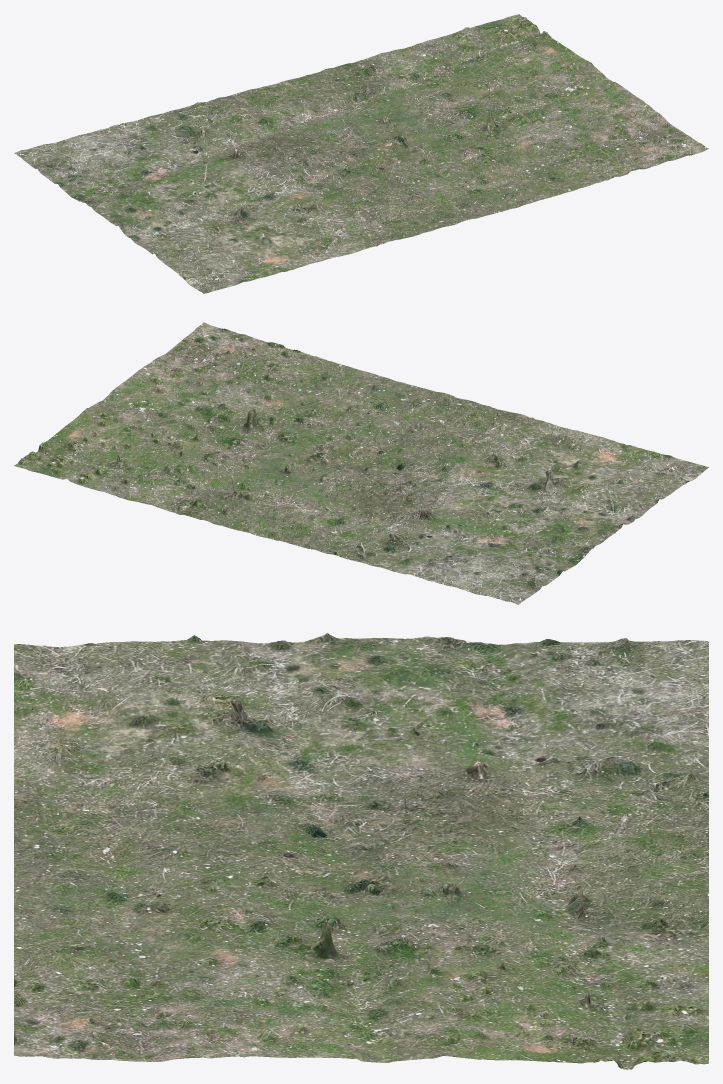
The model's file is BlockYXYB_L21_16.glb.
The picture shows the model from 3 angles, top to bottom: view 1: azimuth 30°, elevation 25°; view 2: azimuth 150°, elevation 25°; view 3: azimuth 270°, elevation 25°; orthographic projection. The views are drawn at different scales.
Parts seen in each view (by area): view 1: rtc; view 2: rtc; view 3: rtc.
Boxes of the visible parts, box(x1,y1,x2,y2) form: rtc: box(14, 14, 708, 293); rtc: box(14, 322, 708, 604); rtc: box(14, 633, 708, 1069).
Bounding box in the file's own units: 26.76 × 1.73 × 17.43.
7 materials, 7 textured.
